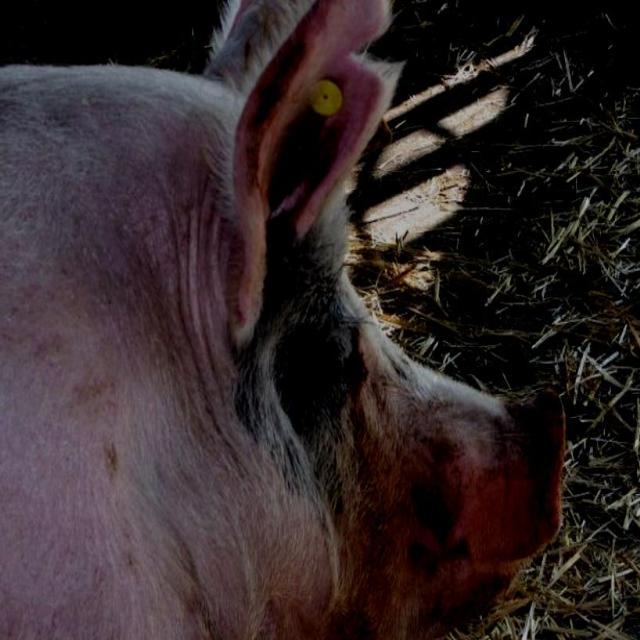pig: (0, 3, 565, 637)
